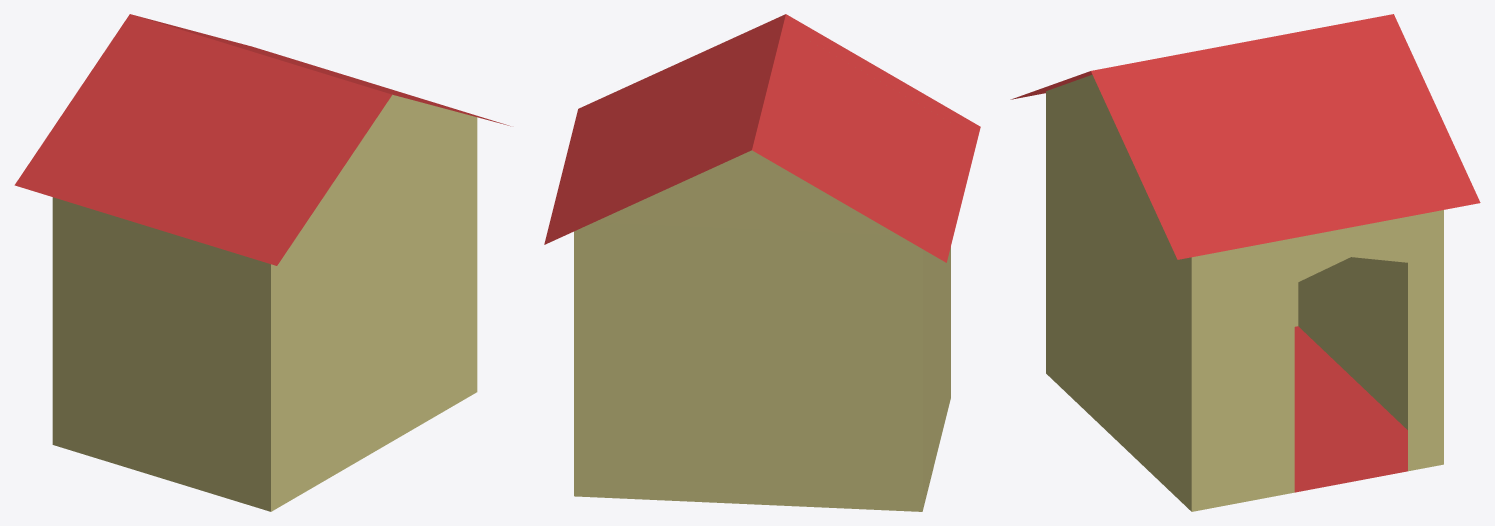
The picture shows the model from 3 angles, left to right: view 1: azimuth 30°, elevation 25°; view 2: azimuth 150°, elevation 25°; view 3: azimuth 270°, elevation 25°; orthographic projection. The views are drawn at different scales.
Bounding box in the file's own units: 13.8 × 12.68 × 11.1.
